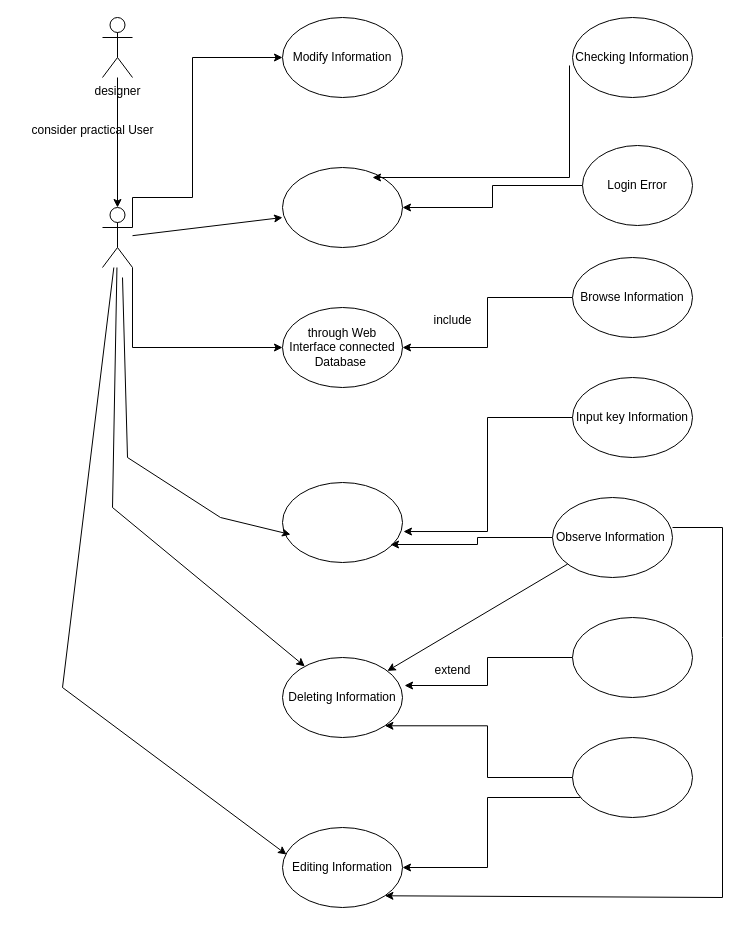
Some shapes in this 748 by 925 pixel diagram are drawn without their labels. Here are the shapes that lost their labels. From the top down, the centre of each, then its label:
At (x=342, y=207): "Log in or Log out".
At (x=117, y=237): "user".
At (x=342, y=522): "Adding Information".
At (x=632, y=657): "Deleting a part of information".
At (x=632, y=777): "Information error".
